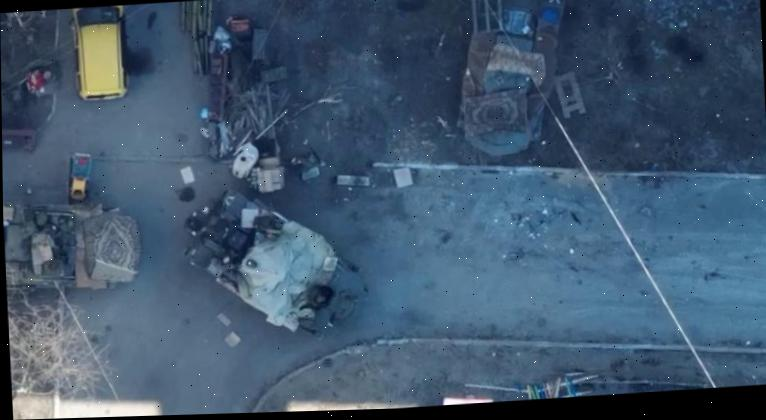car: (68, 5, 130, 101)
tank: (181, 178, 372, 349), (3, 165, 145, 307), (452, 0, 575, 160)
